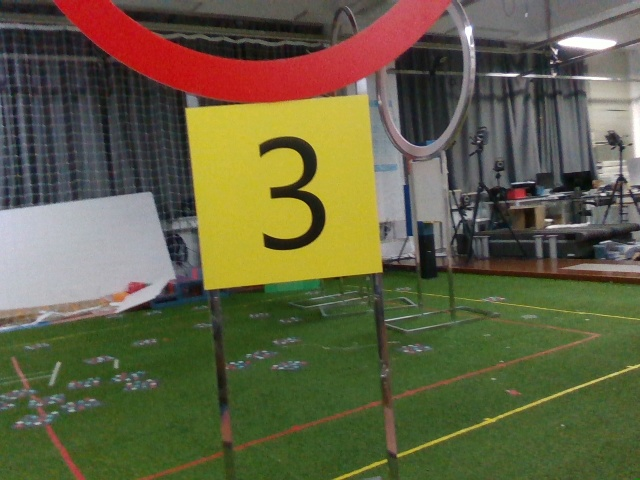target: (201, 112, 371, 267)
